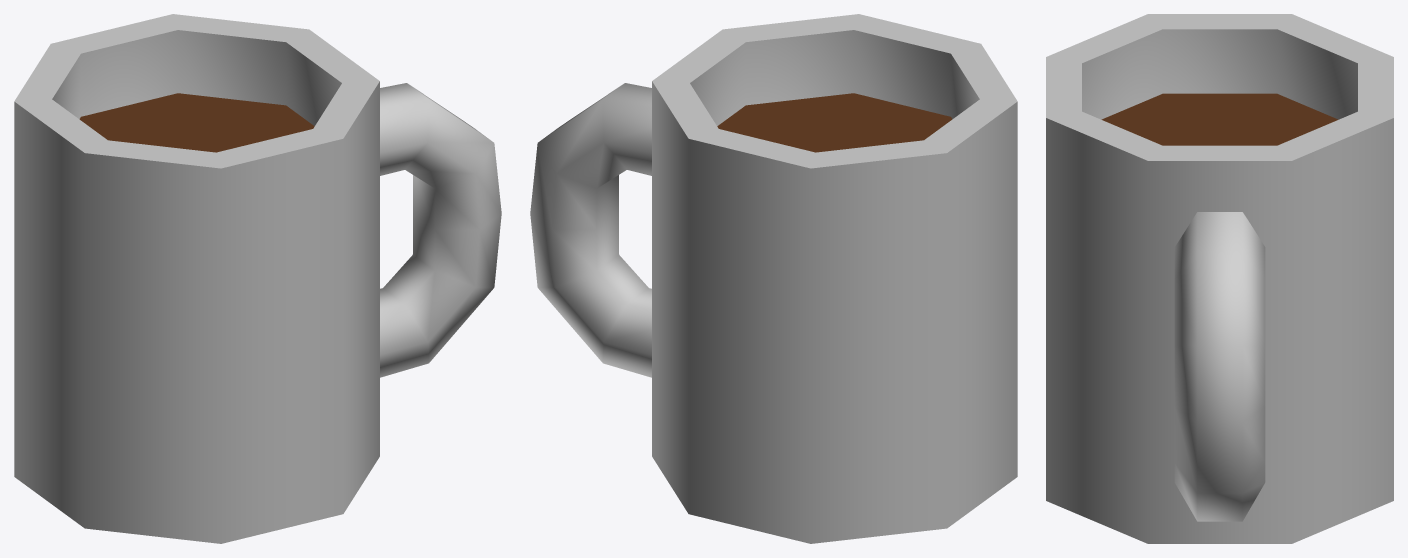
The model's file is SM_BossMug.fbx.
3 views of the same model, side by side, from view 1: azimuth 30°, elevation 25°; view 2: azimuth 150°, elevation 25°; view 3: azimuth 270°, elevation 25° (orthographic). The views are drawn at different scales.
Parts seen in each view (by area): view 1: Circle, Circle.001; view 2: Circle, Circle.001; view 3: Circle, Circle.001.
Part boxes in pixels (x1=…): Circle: x1=14, y1=14, x2=501, y2=543; Circle.001: x1=79, y1=93, x2=314, y2=152; Circle: x1=530, y1=14, x2=1017, y2=543; Circle.001: x1=717, y1=93, x2=952, y2=152; Circle: x1=1046, y1=14, x2=1393, y2=543; Circle.001: x1=1101, y1=93, x2=1338, y2=145.
Bounding box in the file's own units: 28.73 × 23.37 × 19.22.
